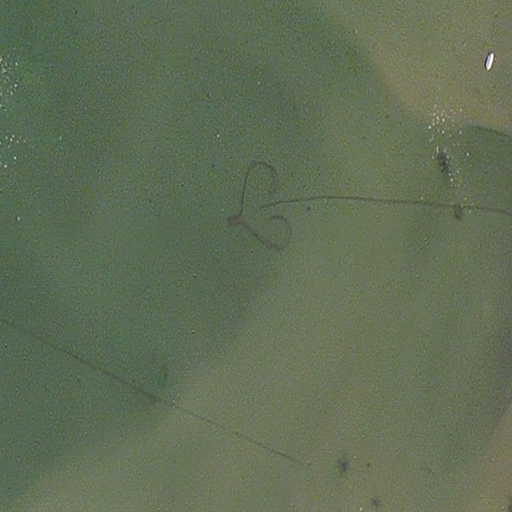ship: (485, 53, 494, 74)
